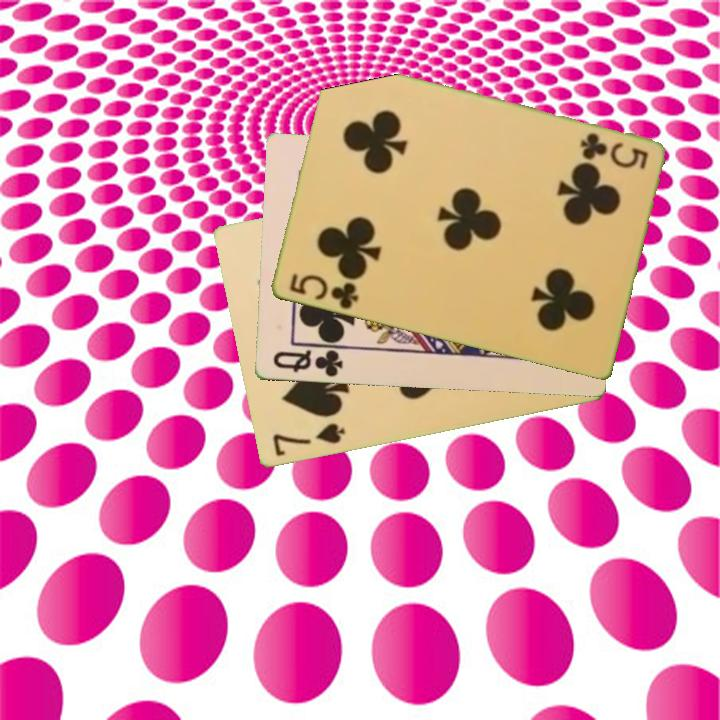5c: (285, 270, 362, 313), (576, 129, 651, 172)
7s: (269, 420, 348, 460)
Qc: (269, 343, 349, 380)
